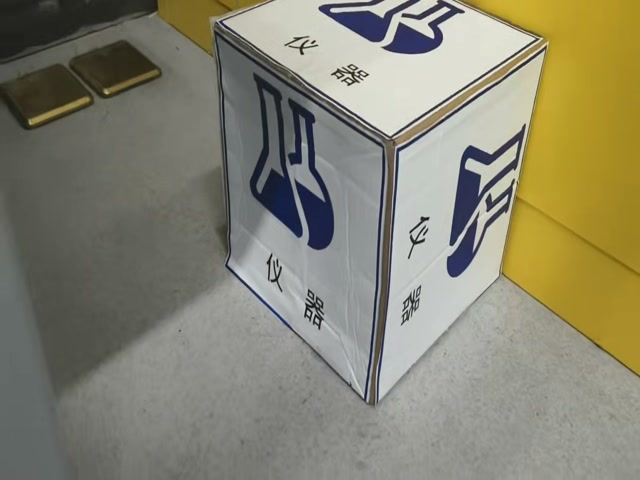Cube_ins: (210, 1, 543, 152)
